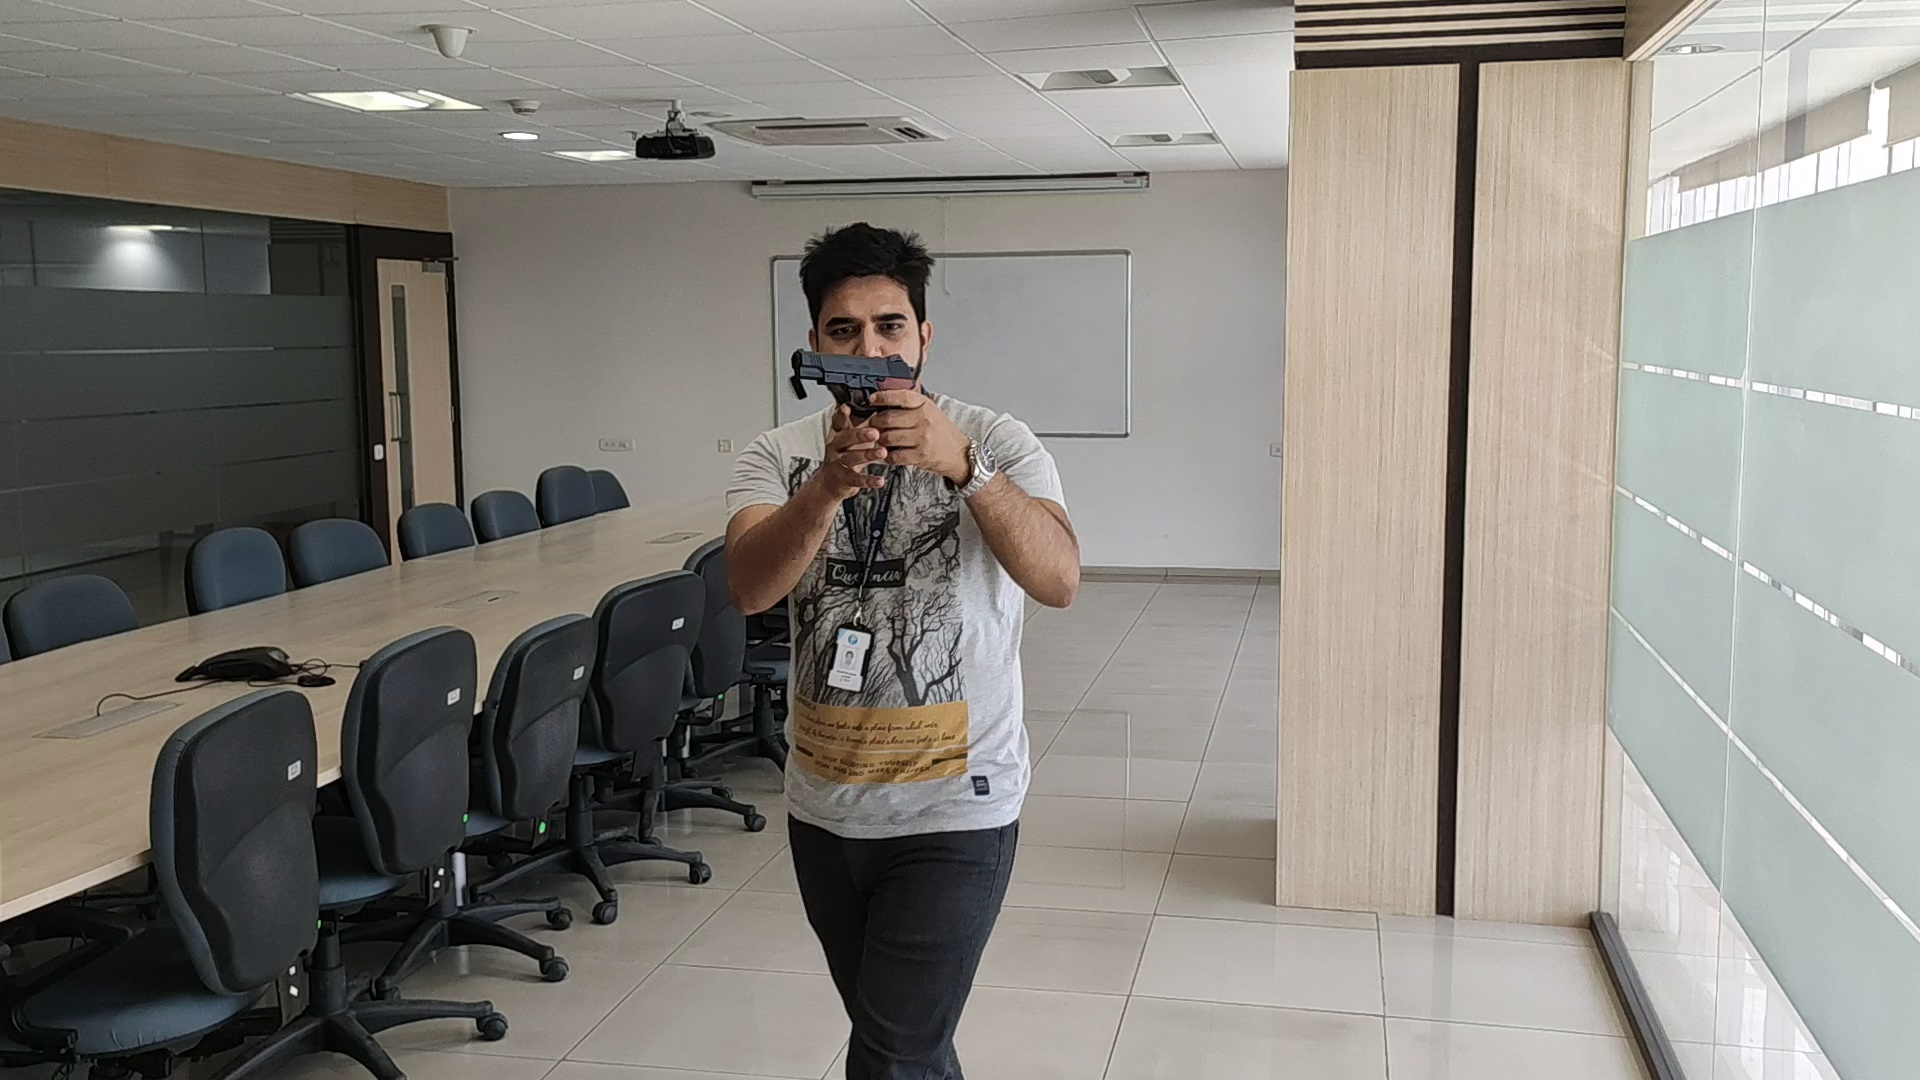gun: (791, 348, 914, 389)
